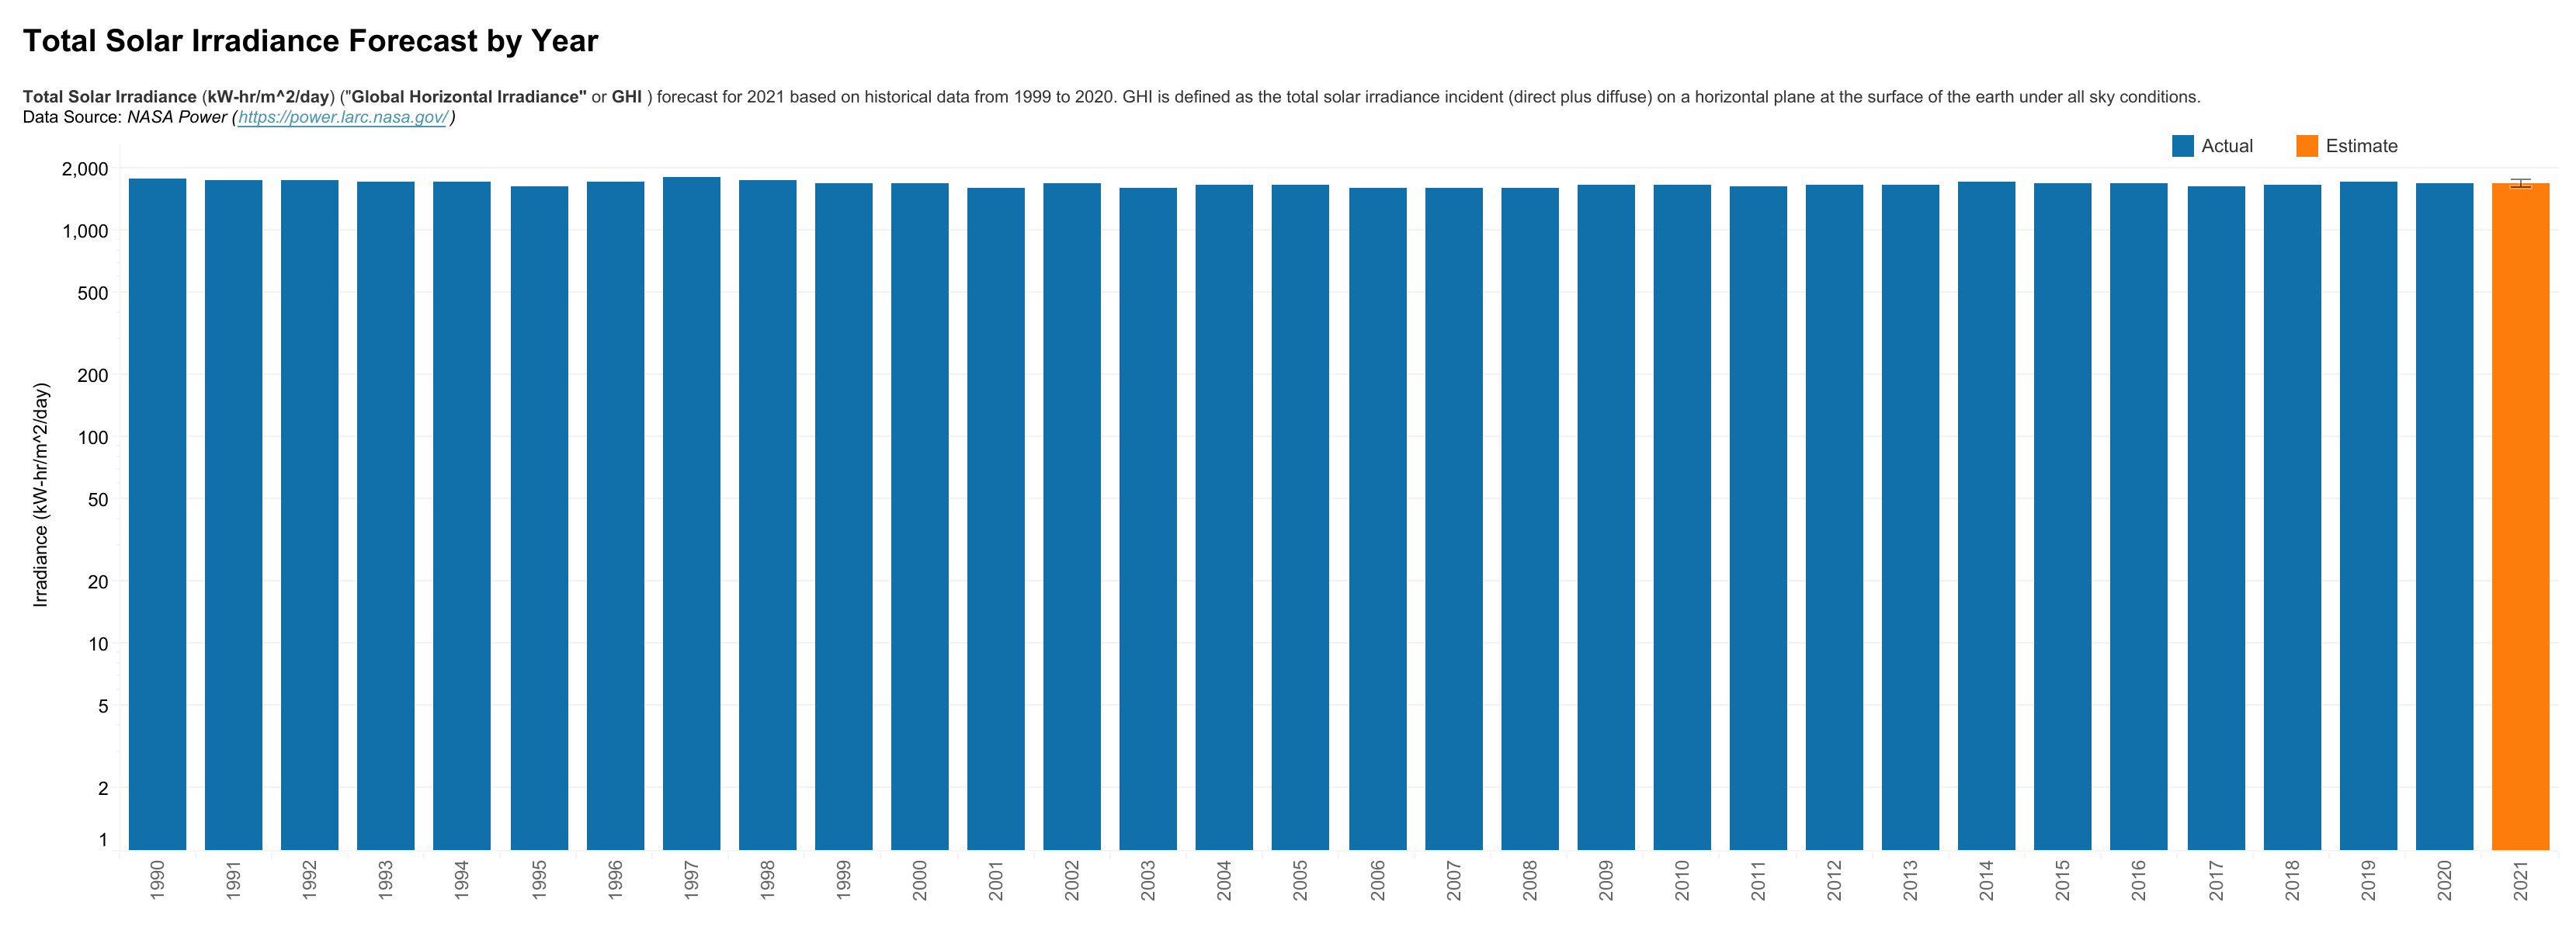

The page's visual inventory and layout, read from the dashboard file:
{"tool":"tableau","page":{"name":"Irradiance Forecast by Year Dashboard","canvas":[1000,1000],"units":"permille","ordinal":3},"visuals":[{"type":"text","box":[6.3,13.3,987.4,133.3]},{"type":"legend","title":"Irradiance Forecast by Year-Sheet","param":"[federated.06rtbk80l03yyg1gzvnkt0xurct5].[none:Forecast Indicator:nk]","box":[841.3,140,157.9,66.7]},{"type":"worksheet","title":"Irradiance Forecast by Year-Sheet","mark":"Bar","rows":["F2"],"cols":["F1"],"box":[6.3,146.7,987.4,840]}]}

Visuals, with their boxes on the dashboard's canvas, which has no fixed pixel size, in thousandths of its width and height (x1, y1, x2, y2). These are canvas units, not pixel positions in the 2576x930 screenshot, which may show the page scaled, cropped or inside an application window:
text: (6, 13, 994, 147)
"Irradiance Forecast by Year-Sheet" legend: (841, 140, 999, 207)
"Irradiance Forecast by Year-Sheet" worksheet (Bar marks): (6, 147, 994, 987)
